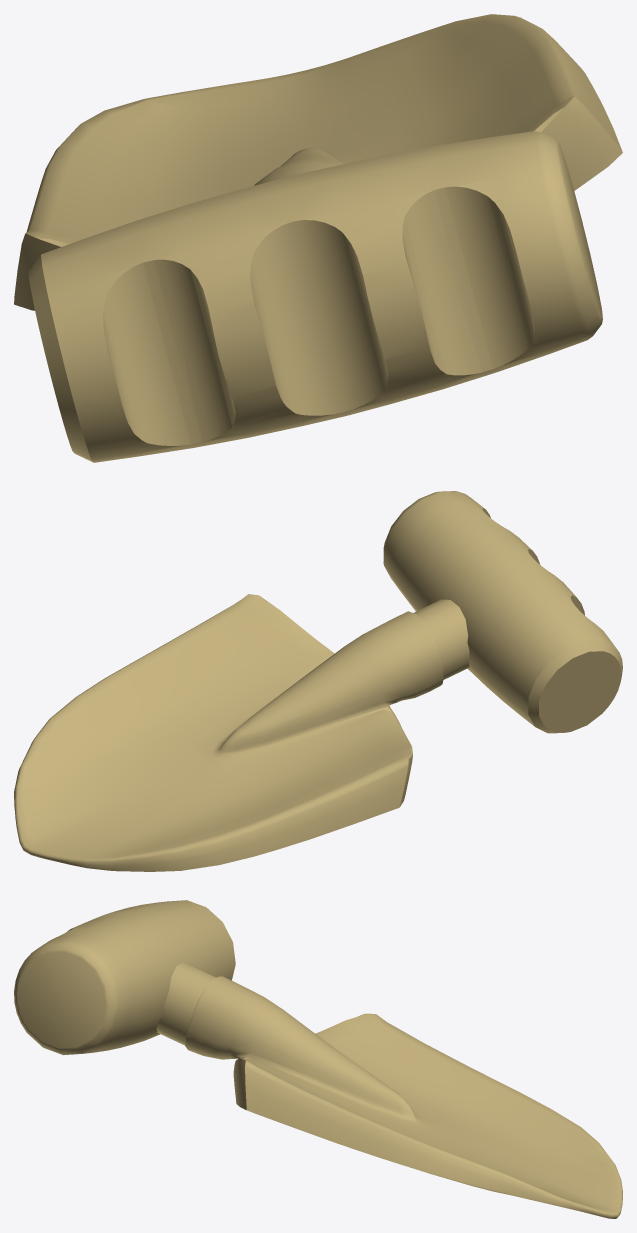
File: Trowel - Shadow.fbx
The picture shows the model from 3 angles, top to bottom: view 1: azimuth 30°, elevation 25°; view 2: azimuth 150°, elevation 25°; view 3: azimuth 270°, elevation 25°; orthographic projection. The views are drawn at different scales.
Visible parts, largest first — view 1: Trowel - Shadow; view 2: Trowel - Shadow; view 3: Trowel - Shadow.
Part boxes in pixels (x1,y1,x2,y2): Trowel - Shadow: (14,14,622,462); Trowel - Shadow: (14,491,622,871); Trowel - Shadow: (14,900,622,1218).
Size of the model in its own units: 10.53 by 4.82 by 13.03.
